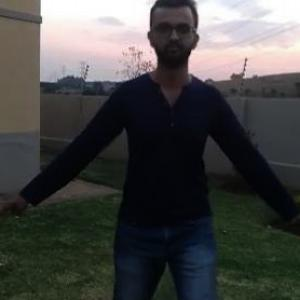land: (35, 18, 289, 299)
